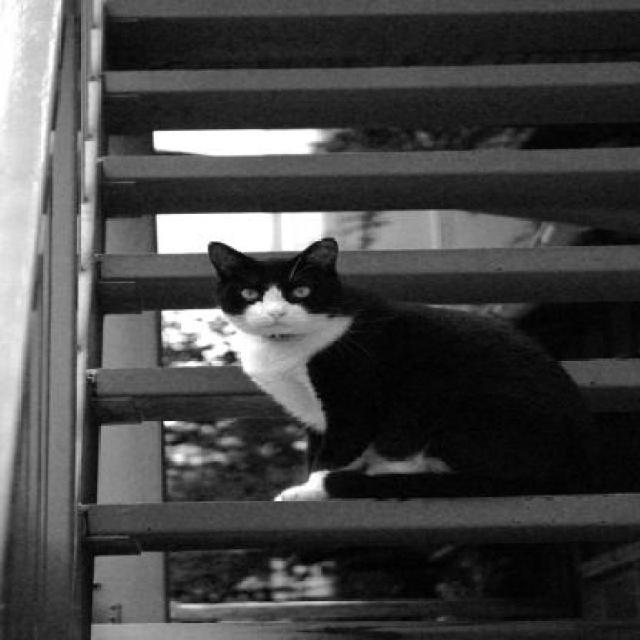stair: (51, 0, 640, 640)
